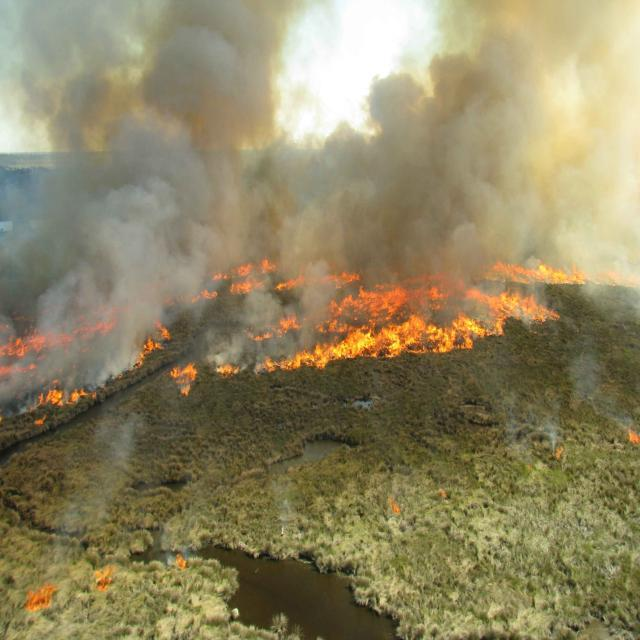Fire: (292, 274, 548, 364), (165, 341, 323, 399), (220, 253, 312, 300), (486, 258, 624, 285), (24, 378, 102, 423), (82, 536, 128, 598), (18, 556, 58, 624), (619, 400, 640, 464), (0, 331, 43, 354), (166, 544, 193, 576)
Smoke: (0, 0, 630, 135), (264, 136, 615, 224), (25, 111, 202, 232)
